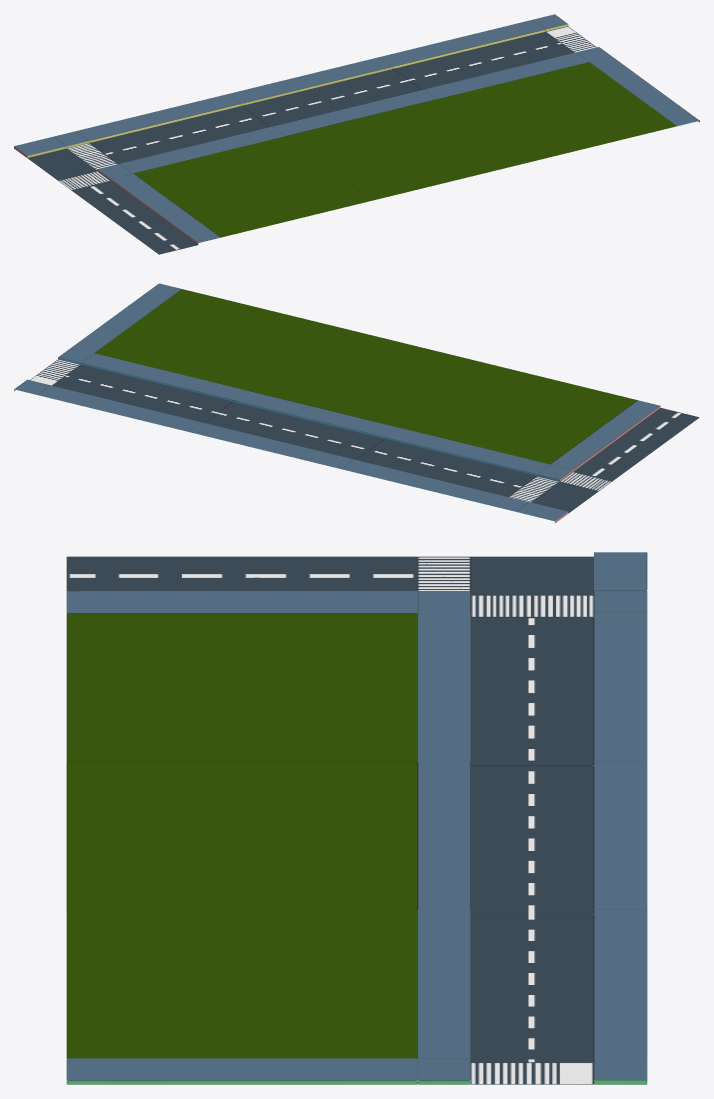
Rendered from Rua_02_V_02.fbx.
3 views of the same model, one above another, from view 1: azimuth 30°, elevation 25°; view 2: azimuth 150°, elevation 25°; view 3: azimuth 270°, elevation 25° (orthographic). The views are drawn at different scales.
Visible parts, largest first — view 1: plane_selection; view 2: plane_selection; view 3: plane_selection.
Boxes of the visible parts, box(x1,y1,x2,y2) form: plane_selection: box(14, 14, 699, 254); plane_selection: box(14, 283, 699, 522); plane_selection: box(66, 552, 647, 1084).
Bounding box in the file's own units: 7116 × 28.12 × 3306.
1 material, 1 textured.
